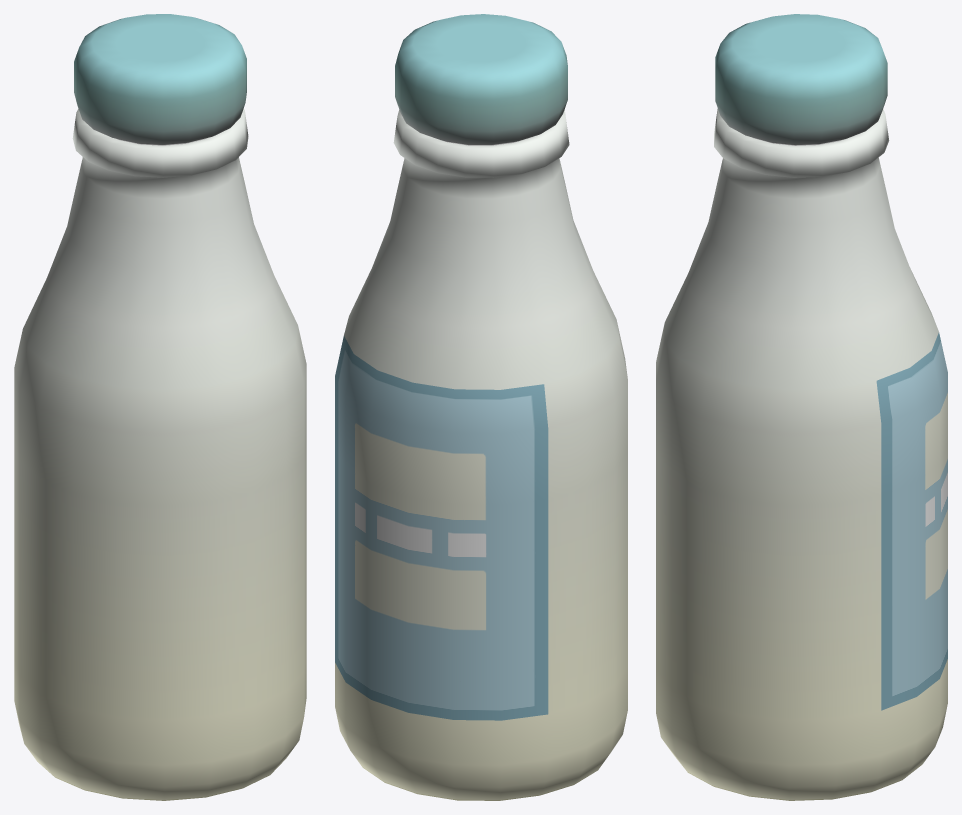
Rendered from milkbottle.fbx.
3 views of the same model, side by side, from view 1: azimuth 30°, elevation 25°; view 2: azimuth 150°, elevation 25°; view 3: azimuth 270°, elevation 25° (orthographic).
Visible parts, largest first — view 1: milkbottle; view 2: milkbottle; view 3: milkbottle.
Part boxes in pixels (box(x1,y1,x2,y2)): milkbottle: box(14, 14, 306, 800); milkbottle: box(335, 14, 627, 800); milkbottle: box(656, 14, 947, 800).
Bounding box in the file's own units: 1.99 × 5.34 × 1.99.
